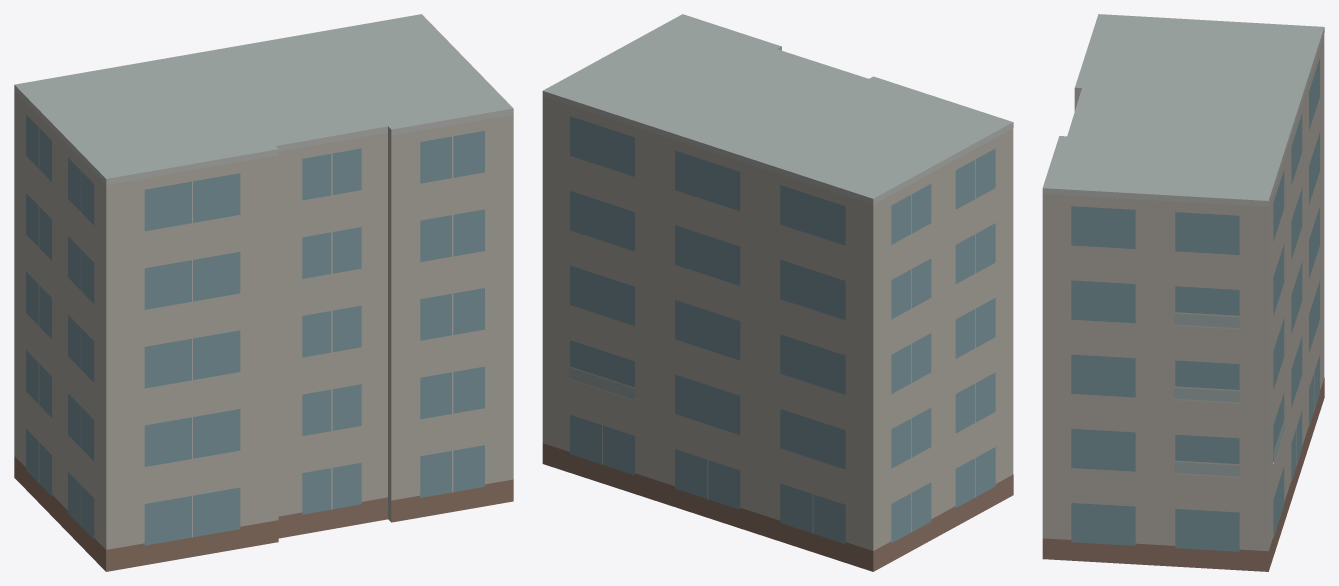
The model's file is survey-upis-33033425.glb.
3 views of the same model, side by side, from view 1: azimuth 30°, elevation 25°; view 2: azimuth 150°, elevation 25°; view 3: azimuth 270°, elevation 25° (orthographic). The views are drawn at different scales.
Parts seen in each view (by area): view 1: survey-upis-33033425.tmp; view 2: survey-upis-33033425.tmp; view 3: survey-upis-33033425.tmp.
Part boxes in pixels (<box>): survey-upis-33033425.tmp: <box>14,14,513,571</box>; survey-upis-33033425.tmp: <box>542,14,1013,571</box>; survey-upis-33033425.tmp: <box>1042,14,1324,571</box>.
Size of the model in its own units: 16.76 by 15.5 by 10.69.
